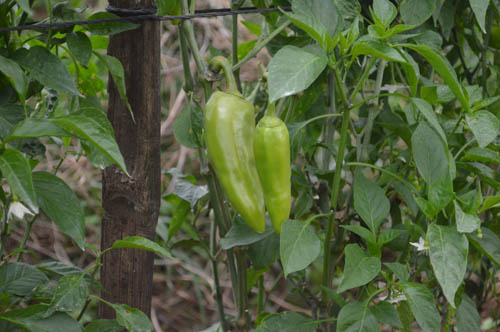ChiliPepper: (207, 88, 264, 233), (251, 123, 298, 233)
